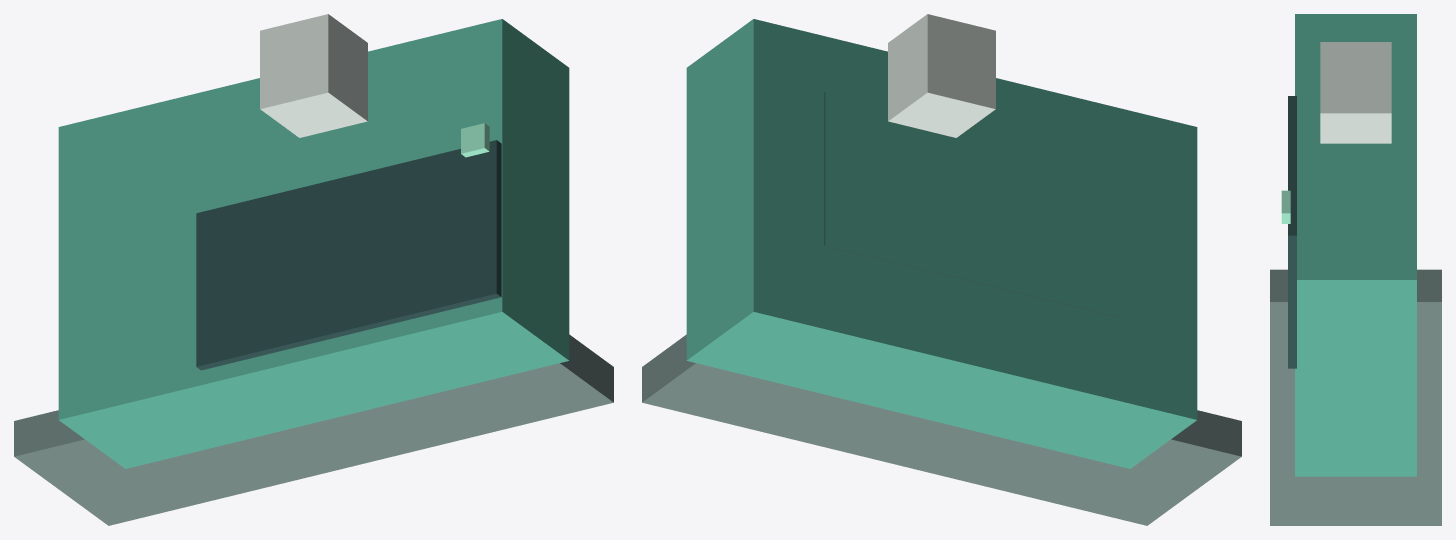
Rendered from device.glb.
3 views of the same model, side by side, from view 1: azimuth 30°, elevation 25°; view 2: azimuth 150°, elevation 25°; view 3: azimuth 270°, elevation 25° (orthographic). The views are drawn at different scales.
Visible parts, largest first — view 1: 设备外壳, 显示屏, 安装底座, 顶部传感器, 在线状态灯; view 2: 设备外壳, 安装底座, 顶部传感器, 显示屏; view 3: 设备外壳, 安装底座, 顶部传感器, 显示屏, 在线状态灯.
Part boxes in pixels (left/top/right/bottom): 设备外壳: left=58, top=19, right=569, bottom=468; 显示屏: left=196, top=140, right=501, bottom=370; 安装底座: left=14, top=334, right=613, bottom=525; 顶部传感器: left=260, top=14, right=367, bottom=137; 在线状态灯: left=461, top=123, right=489, bottom=157; 设备外壳: left=686, top=19, right=1197, bottom=468; 安装底座: left=642, top=334, right=1241, bottom=525; 顶部传感器: left=888, top=14, right=995, bottom=137; 显示屏: left=824, top=92, right=1125, bottom=319; 设备外壳: left=1295, top=14, right=1416, bottom=476; 安装底座: left=1270, top=269, right=1441, bottom=525; 顶部传感器: left=1320, top=42, right=1391, bottom=143; 显示屏: left=1288, top=96, right=1296, bottom=368; 在线状态灯: left=1281, top=190, right=1290, bottom=223.
Bounding box in the file's own units: 2.96 × 2.2 × 0.96.
